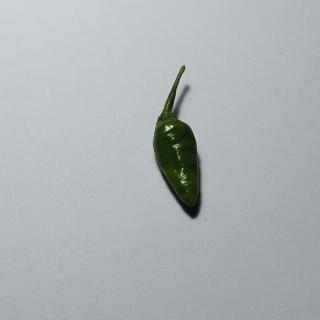Cabai Hijau: (147, 62, 217, 218)
